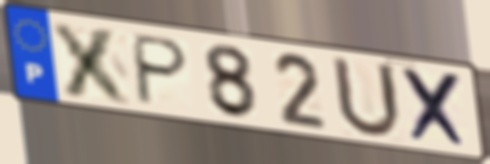2: (271, 51, 329, 133)
8: (201, 43, 261, 120)
P: (131, 31, 193, 108)
U: (328, 53, 406, 142)
X: (47, 18, 137, 108), (398, 64, 473, 152)
